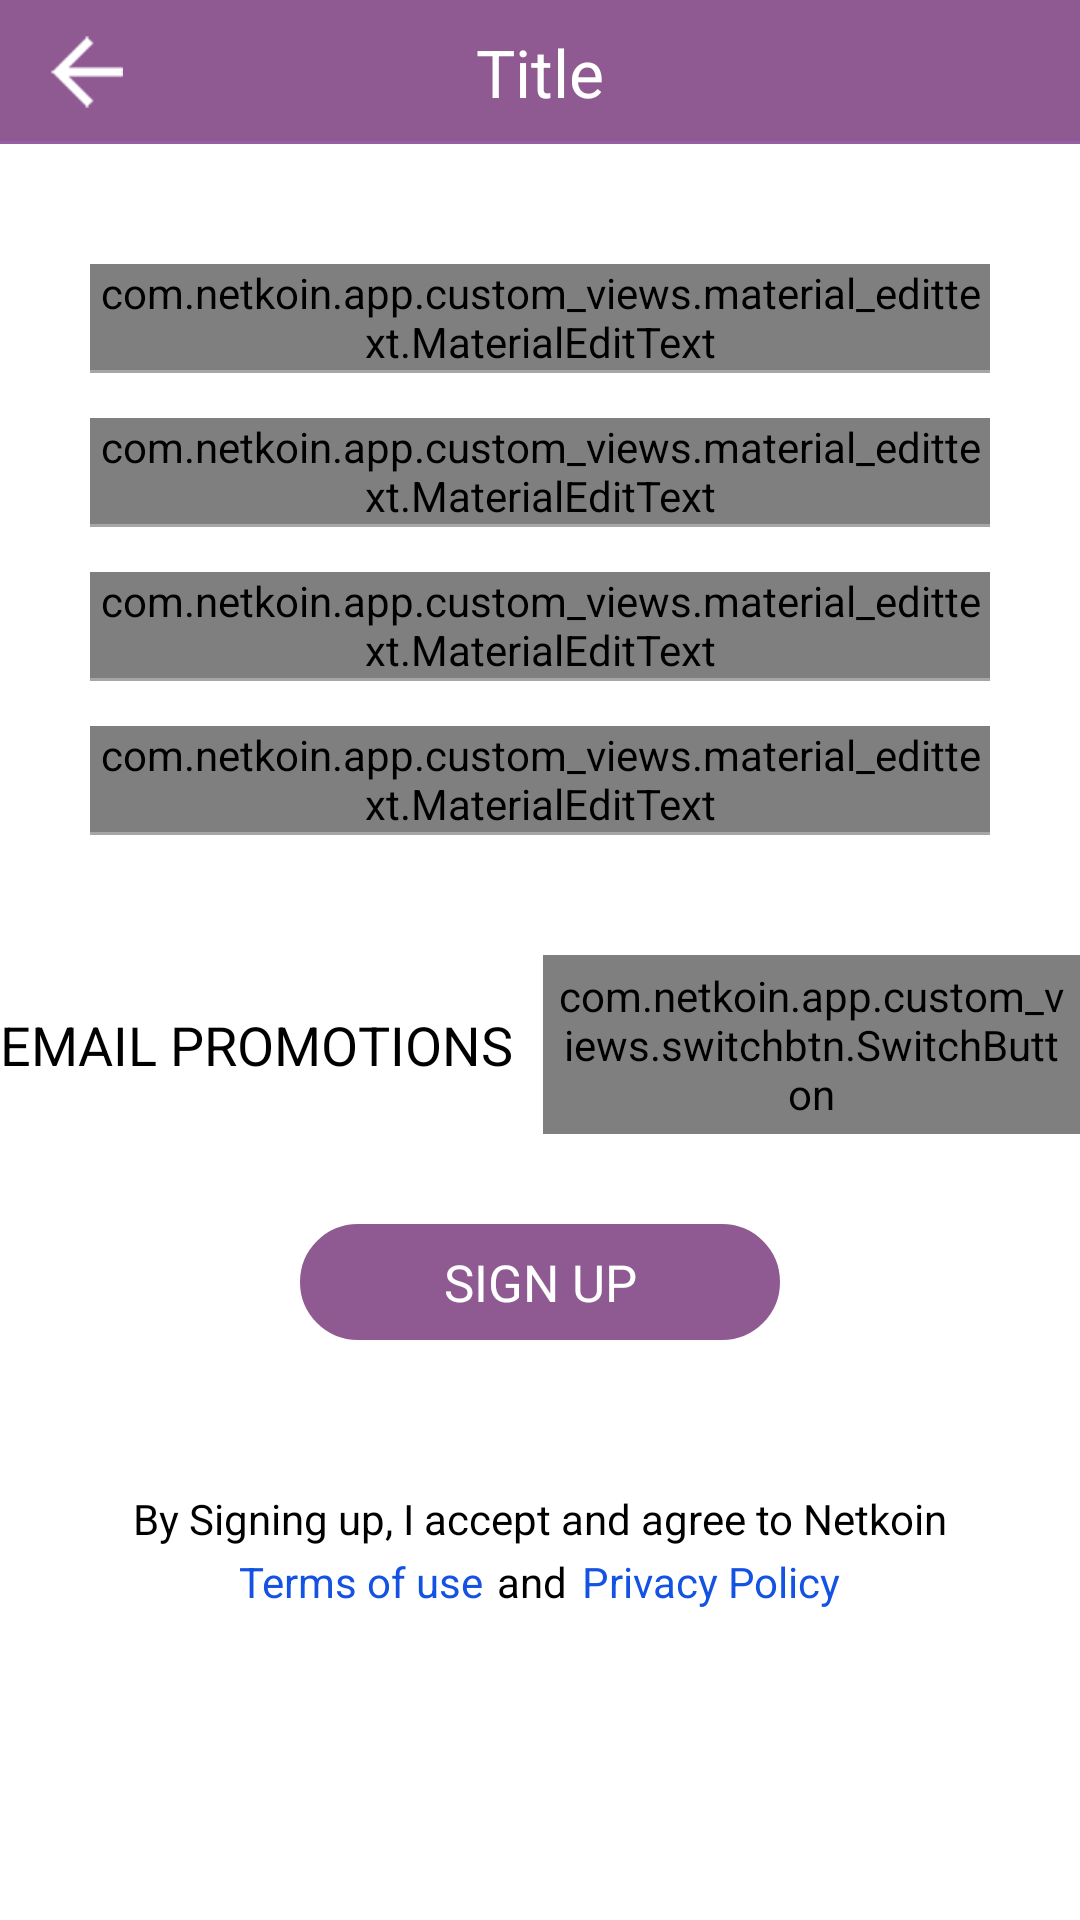

Icon bounding boxes for this 1080px x 1920px phone screenshot, format (x1, y1, x2, y2):
back: (51, 36, 123, 108)
